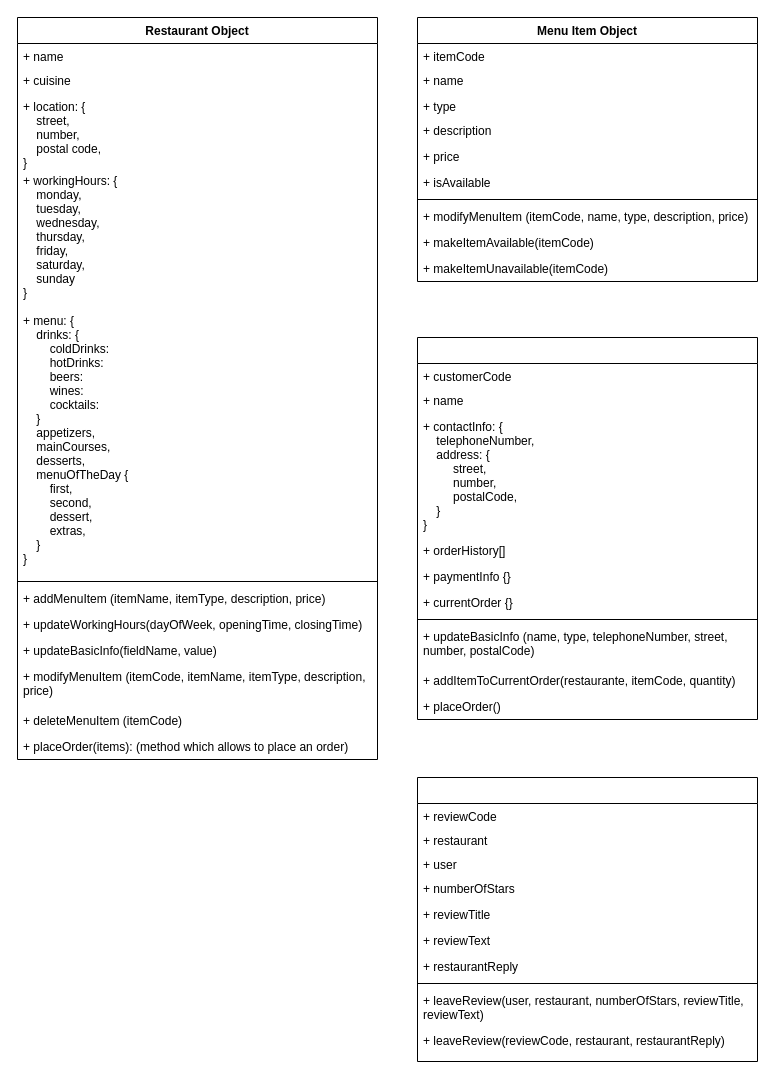
Image size: 775x1082. Some labels were removed from this diagram. Here are the shapes that lost their labels. From the top down, the box of each, then its label:
(416, 336, 758, 720): Customer Object
(416, 776, 758, 1062): Review Item Object
